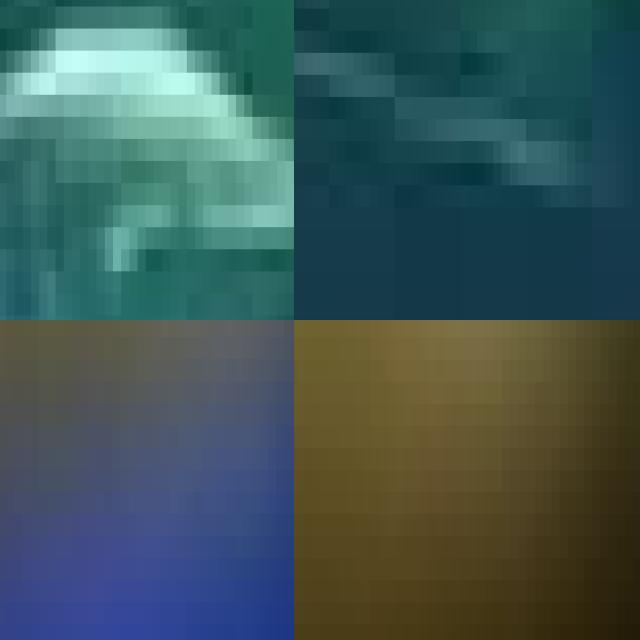fish: (0, 0, 294, 320), (0, 320, 294, 640)
